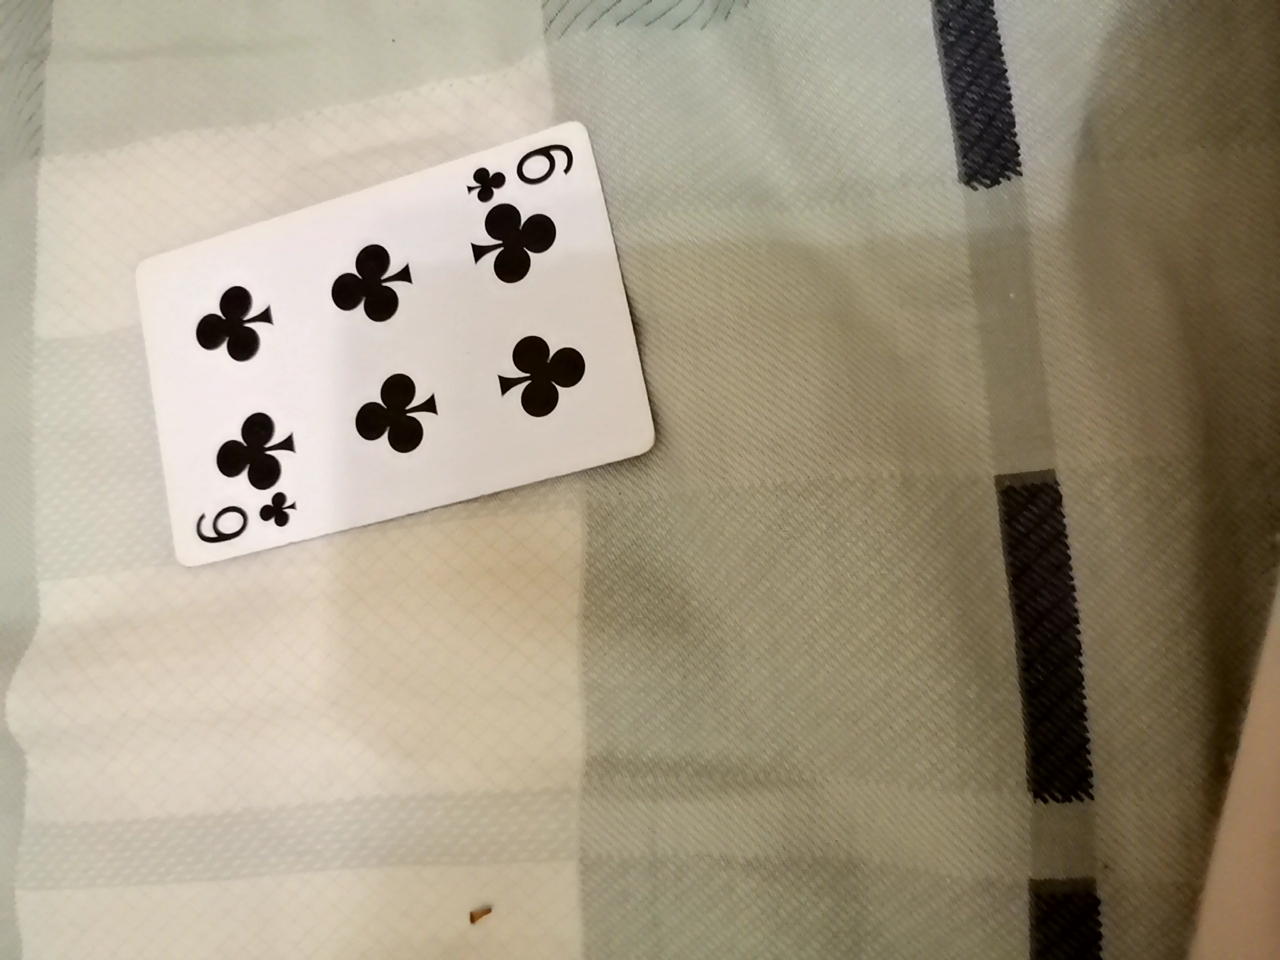mh 6: (133, 113, 631, 587)
